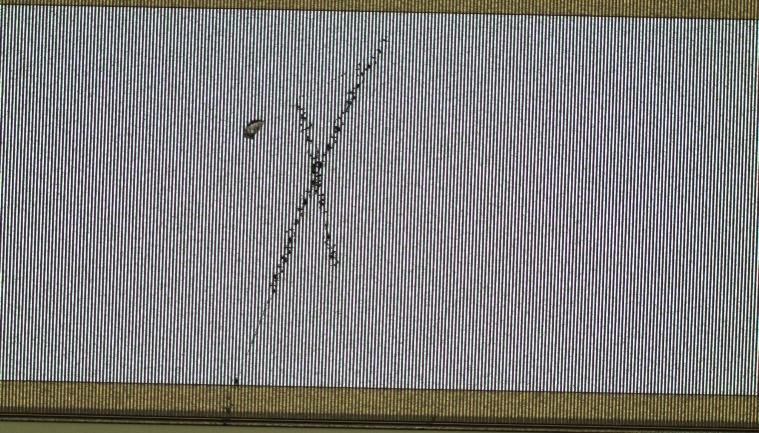SCRATCH: (217, 29, 397, 433)
